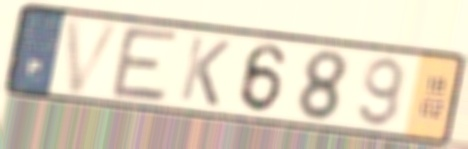6: (238, 40, 292, 116)
8: (295, 47, 351, 123)
9: (354, 54, 410, 130)
E: (108, 24, 182, 106)
K: (176, 32, 234, 110)
V: (61, 16, 126, 97)
